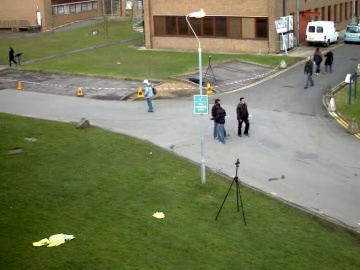person: (232, 97, 249, 139), (234, 96, 250, 139), (142, 80, 156, 112)
